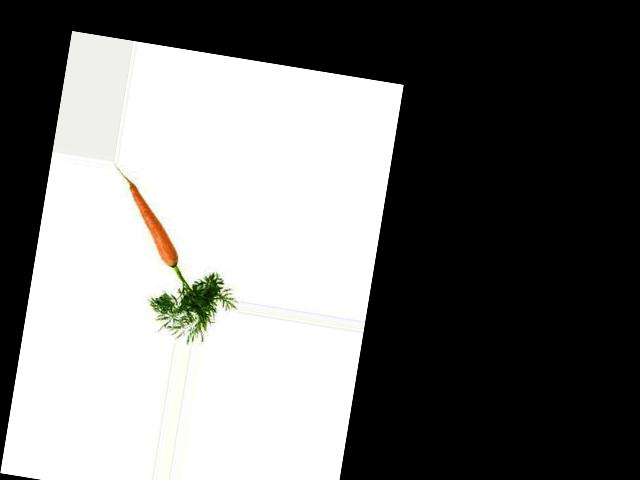carrot: (112, 176, 191, 271)
